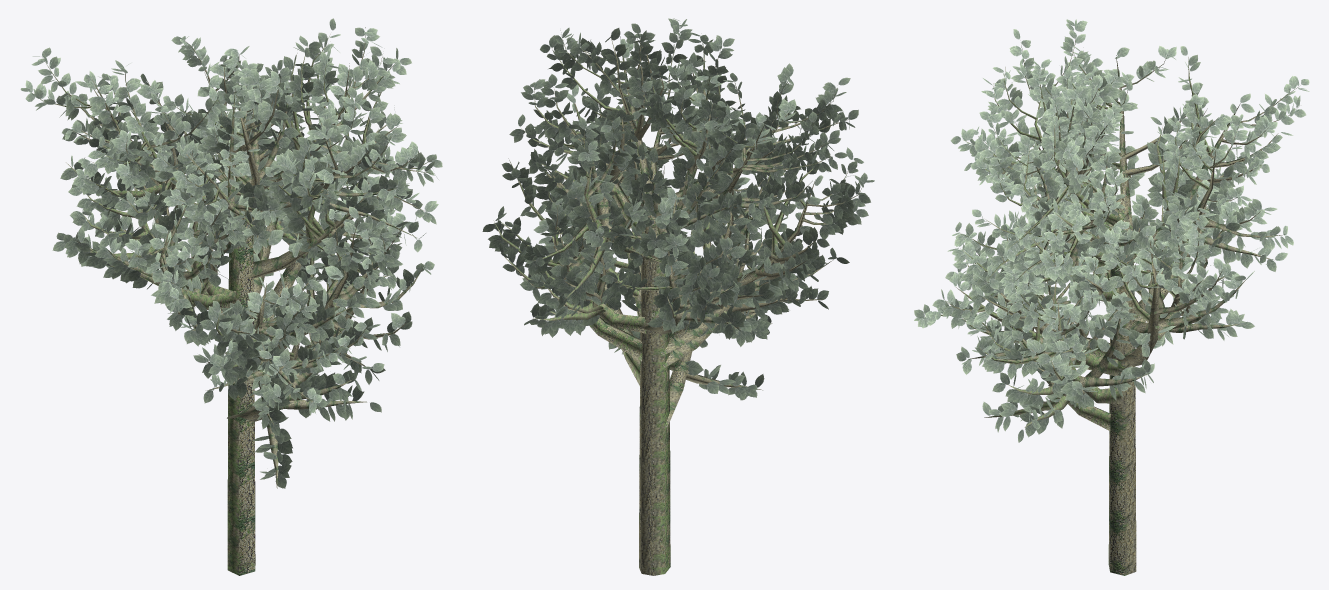
Rendered from OakTree1.obj.
3 renders of one model, left to right at view 1: azimuth 30°, elevation 25°; view 2: azimuth 150°, elevation 25°; view 3: azimuth 270°, elevation 25°, orthographic. The views are drawn at different scales.
Parts seen in each view (by area): view 1: trunk; view 2: trunk; view 3: trunk.
Boxes of the visible parts, <box> form: trunk: <box>20,18,442,575</box>; trunk: <box>482,18,874,575</box>; trunk: <box>914,19,1309,575</box>.
Size of the model in its own units: 25.76 by 37.69 by 27.58.
2 materials, 2 textured.
